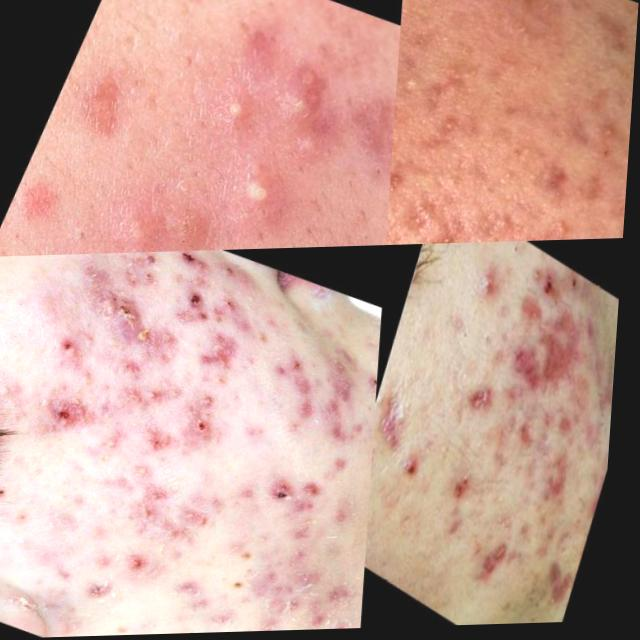9: (209, 80, 284, 156), (226, 166, 295, 225)
blackheads: (64, 259, 188, 368), (130, 477, 246, 581), (302, 339, 385, 460), (249, 336, 340, 432), (276, 47, 349, 142), (248, 548, 334, 627), (191, 313, 273, 395), (261, 452, 346, 524), (539, 312, 602, 398), (379, 371, 427, 461), (522, 153, 587, 212), (539, 443, 586, 519), (508, 398, 555, 470), (506, 342, 553, 403), (513, 282, 562, 339), (463, 372, 510, 427), (477, 539, 519, 600), (429, 108, 473, 163), (442, 499, 479, 553), (53, 333, 105, 369), (550, 557, 586, 609), (392, 155, 417, 217)
dark spot: (450, 305, 487, 364), (353, 158, 394, 205), (484, 316, 516, 366), (69, 218, 104, 254), (377, 438, 395, 502), (518, 596, 554, 627), (502, 243, 535, 273)
